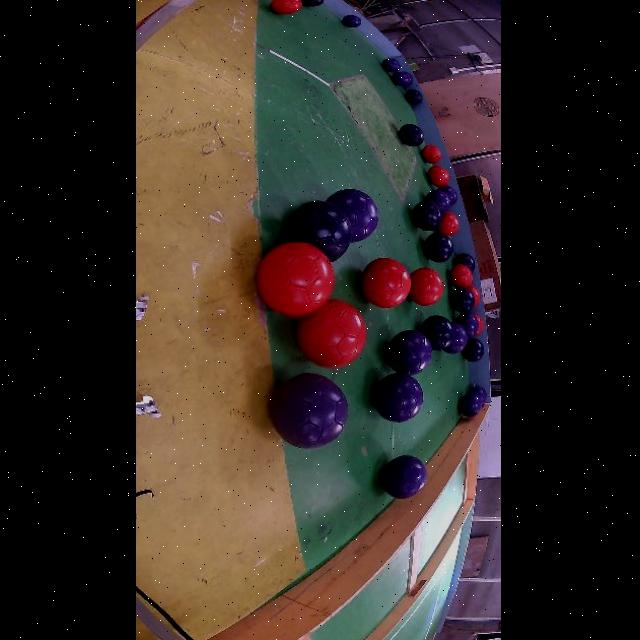B: (285, 201, 351, 262), (420, 315, 455, 351), (424, 233, 453, 263), (412, 201, 441, 230), (450, 287, 474, 313), (398, 123, 424, 146), (462, 338, 485, 362), (454, 253, 476, 272), (382, 59, 401, 73), (405, 89, 422, 104), (342, 15, 361, 28), (392, 72, 409, 85), (301, 0, 324, 7)
P: (270, 374, 349, 449), (327, 189, 378, 243), (373, 372, 424, 423), (387, 330, 433, 375), (380, 456, 426, 498), (444, 323, 468, 355), (426, 189, 450, 214), (455, 313, 478, 338), (459, 393, 482, 417), (439, 186, 458, 206), (471, 386, 488, 404), (401, 73, 413, 86)
R: (257, 242, 335, 316), (297, 299, 366, 369), (360, 258, 411, 308), (409, 267, 444, 306), (449, 264, 473, 287), (438, 212, 459, 236), (427, 165, 449, 187), (270, 0, 302, 14), (421, 145, 441, 164), (467, 286, 481, 306), (475, 314, 483, 335)
